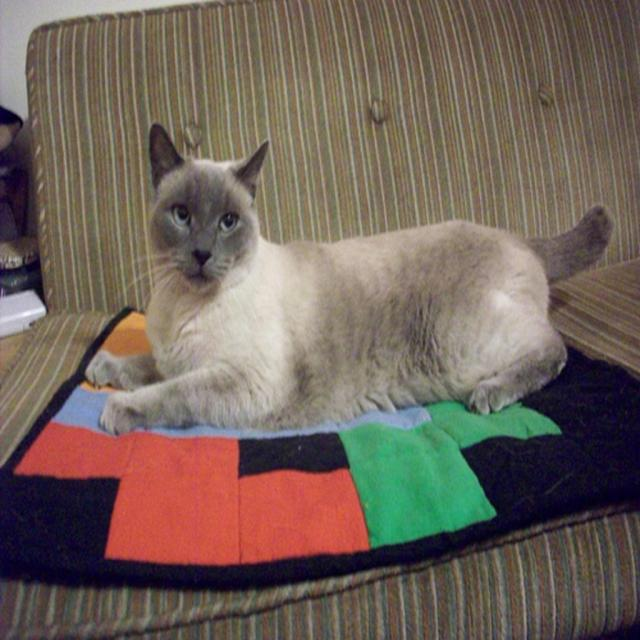Cat: (84, 122, 614, 434)
